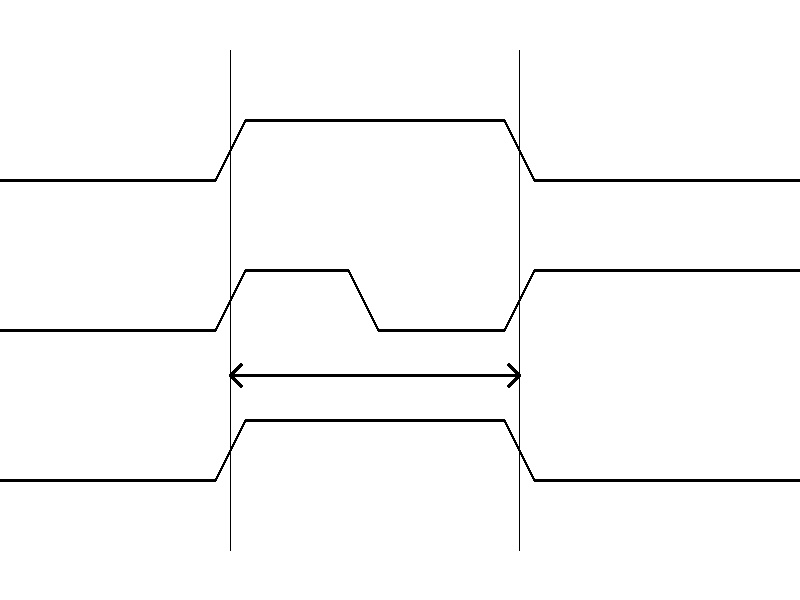double_arrow: (230, 360, 519, 390)
